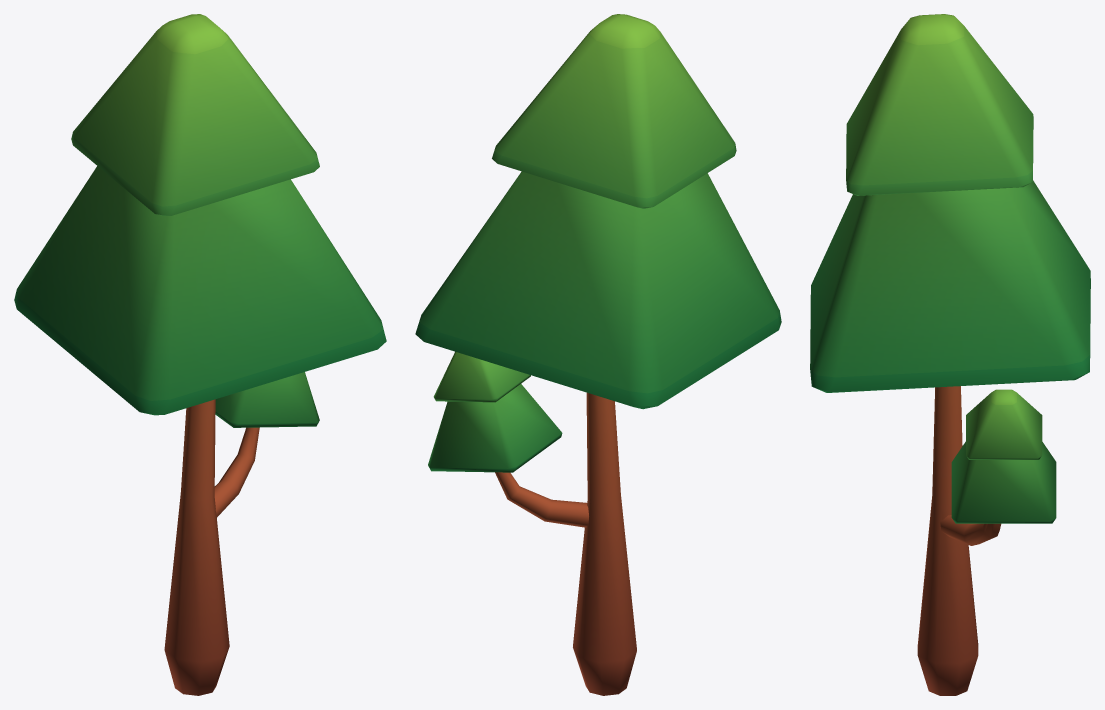
Rendered from Tree_4_A_Color1.glb.
The picture shows the model from 3 angles, left to right: view 1: azimuth 30°, elevation 25°; view 2: azimuth 150°, elevation 25°; view 3: azimuth 270°, elevation 25°; orthographic projection.
Visible parts, largest first — view 1: Tree_4_A_Color1; view 2: Tree_4_A_Color1; view 3: Tree_4_A_Color1.
Part boxes in pixels (x1,y1,x2,y2): Tree_4_A_Color1: [14, 14, 386, 695]; Tree_4_A_Color1: [415, 14, 781, 695]; Tree_4_A_Color1: [810, 14, 1090, 695].
Bounding box in the file's own units: 2.01 × 5.27 × 2.
1 material, 1 textured.
